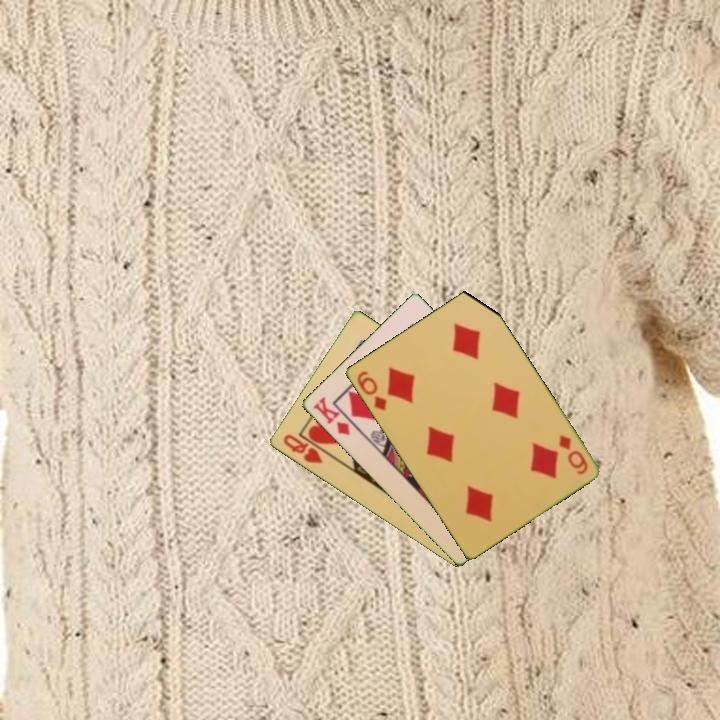6d: (353, 367, 389, 414), (555, 431, 591, 478)
Kd: (309, 393, 353, 438)
Qh: (279, 431, 325, 467)
